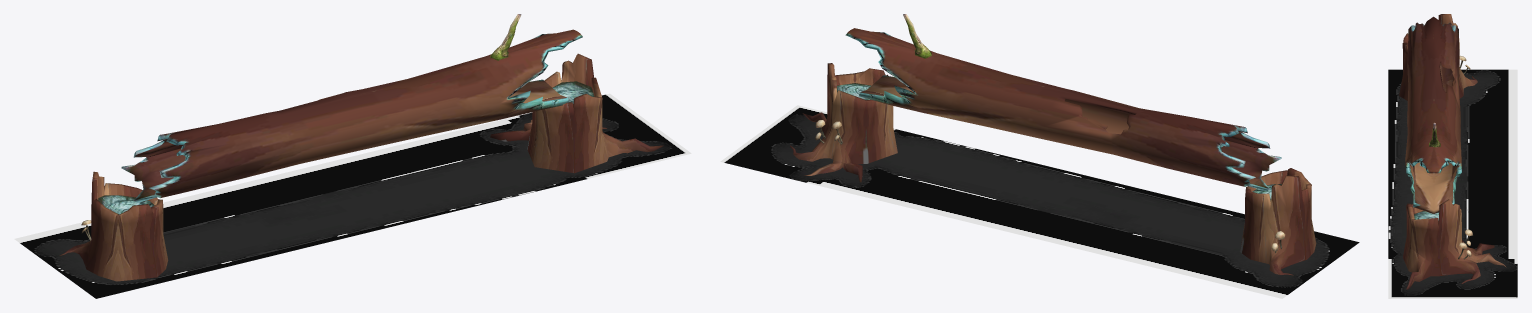
The model's file is block tree.fbx.
3 renders of one model, left to right at view 1: azimuth 30°, elevation 25°; view 2: azimuth 150°, elevation 25°; view 3: azimuth 270°, elevation 25°, orthographic. The views are drawn at different scales.
Visible parts, largest first — view 1: block_tree, Jungle_Block_standard_3L_S; view 2: block_tree, Jungle_Block_standard_3L_S; view 3: Jungle_Block_standard_3L_S, block_tree.
Boxes of the visible parts, x1,y1,x2,y2 form: block_tree: [59, 14, 663, 281]; Jungle_Block_standard_3L_S: [14, 93, 691, 298]; block_tree: [790, 14, 1316, 275]; Jungle_Block_standard_3L_S: [720, 105, 1359, 298]; Jungle_Block_standard_3L_S: [1388, 69, 1517, 298]; block_tree: [1399, 14, 1506, 289].
Bounding box in the file's own units: 8755 × 2171 × 2087.
